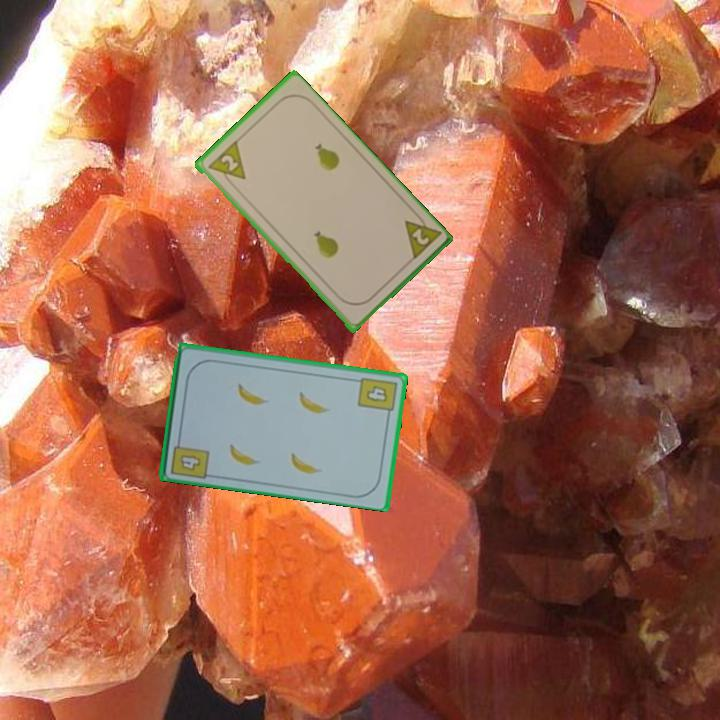2p: (204, 138, 249, 190), (408, 224, 432, 248)
4b: (167, 433, 212, 481), (354, 374, 400, 420)
